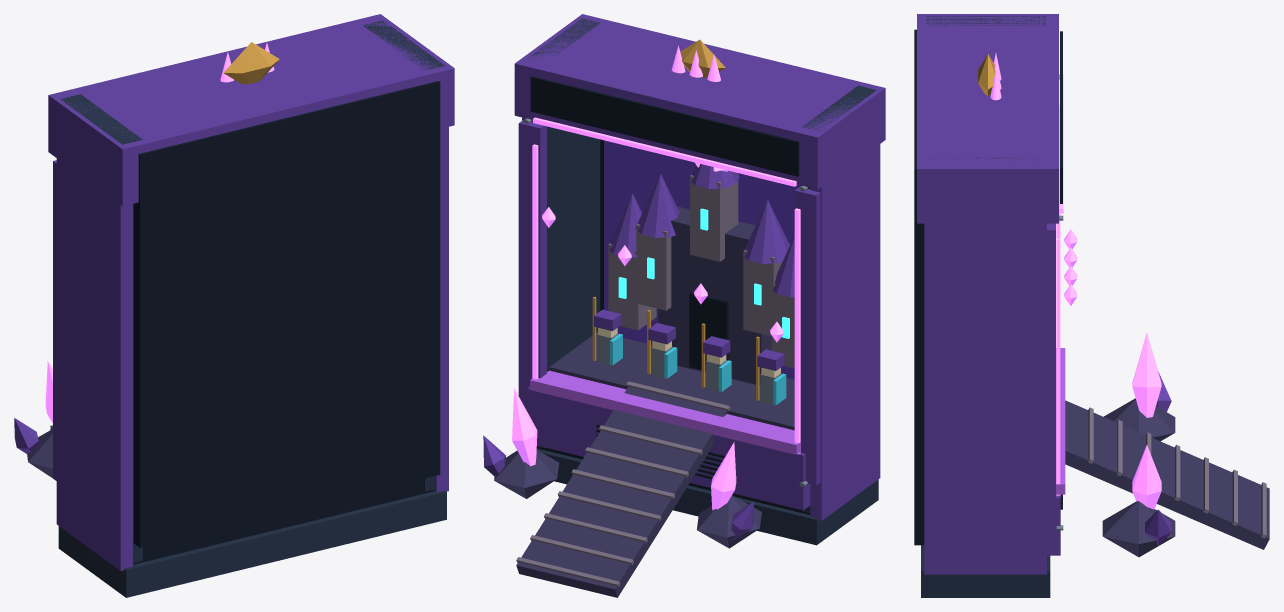
File: last-throne.glb
The picture shows the model from 3 angles, left to right: view 1: azimuth 30°, elevation 25°; view 2: azimuth 150°, elevation 25°; view 3: azimuth 270°, elevation 25°; orthographic projection. The views are drawn at different scales.
Visible parts, largest first — view 1: back, colored_side (×2), hood, base, plinth, side (×2), crown, front_rail, crystal_root, outer_crystal; view 2: hood, colored_side, entry_bridge, side (×2), front_rail (×2), tower (×5), marquee, footer, world_backdrop, castle, inner_floor, roof (×5) (+10 smaller); view 3: colored_side, hood, entry_bridge, back, crystal_root (×2), outer_crystal (×3), base, front_rail, light_rail, screen_sill, side, crown (+2 smaller).
Boxes of the visible parts, x1=… form: back: x1=133, y1=81, x2=440, y2=547; colored_side (×2): x1=56, y1=127, x2=448, y2=570; hood: x1=48, y1=14, x2=454, y2=206; base: x1=58, y1=490, x2=446, y2=597; plinth: x1=133, y1=479, x2=434, y2=564; side (×2): x1=60, y1=20, x2=444, y2=562; crown: x1=223, y1=42, x2=279, y2=84; front_rail: x1=53, y1=160, x2=56, y2=480; crystal_root: x1=27, y1=429, x2=52, y2=478; outer_crystal: x1=14, y1=418, x2=38, y2=453; hood: x1=514, y1=14, x2=885, y2=189; colored_side: x1=810, y1=144, x2=880, y2=520; entry_bridge: x1=516, y1=386, x2=727, y2=597; side (×2): x1=527, y1=18, x2=876, y2=513; front_rail (×2): x1=518, y1=120, x2=820, y2=485; tower (×5): x1=608, y1=173, x2=794, y2=368; marquee: x1=530, y1=76, x2=799, y2=176; footer: x1=527, y1=386, x2=810, y2=510; world_backdrop: x1=604, y1=140, x2=800, y2=379; castle: x1=658, y1=206, x2=771, y2=385; inner_floor: x1=549, y1=332, x2=794, y2=430; roof (×5): x1=607, y1=164, x2=794, y2=297; colored_side: x1=924, y1=223, x2=1046, y2=574; hood: x1=917, y1=14, x2=1058, y2=223; entry_bridge: x1=1065, y1=400, x2=1269, y2=549; back: x1=914, y1=29, x2=924, y2=545; crystal_root (×2): x1=1102, y1=398, x2=1175, y2=557; outer_crystal (×3): x1=1132, y1=332, x2=1171, y2=545; base: x1=921, y1=545, x2=1050, y2=597; front_rail: x1=1047, y1=223, x2=1055, y2=533; light_rail: x1=1056, y1=238, x2=1060, y2=495; screen_sill: x1=1056, y1=348, x2=1065, y2=494; side: x1=926, y1=16, x2=1045, y2=25; crown: x1=978, y1=54, x2=995, y2=95.
Bounding box in the file's own units: 3.23 × 4.58 × 3.13.
